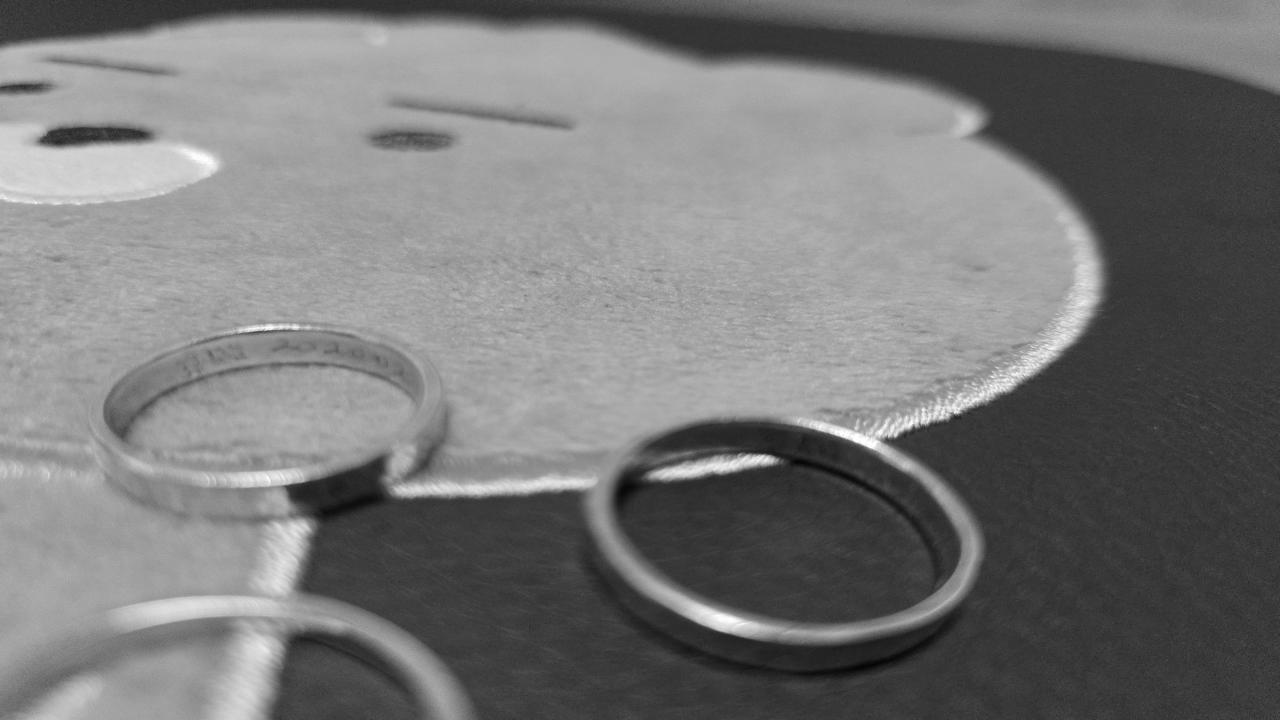ring: (587, 410, 990, 666), (81, 318, 450, 515), (1, 589, 488, 717)
